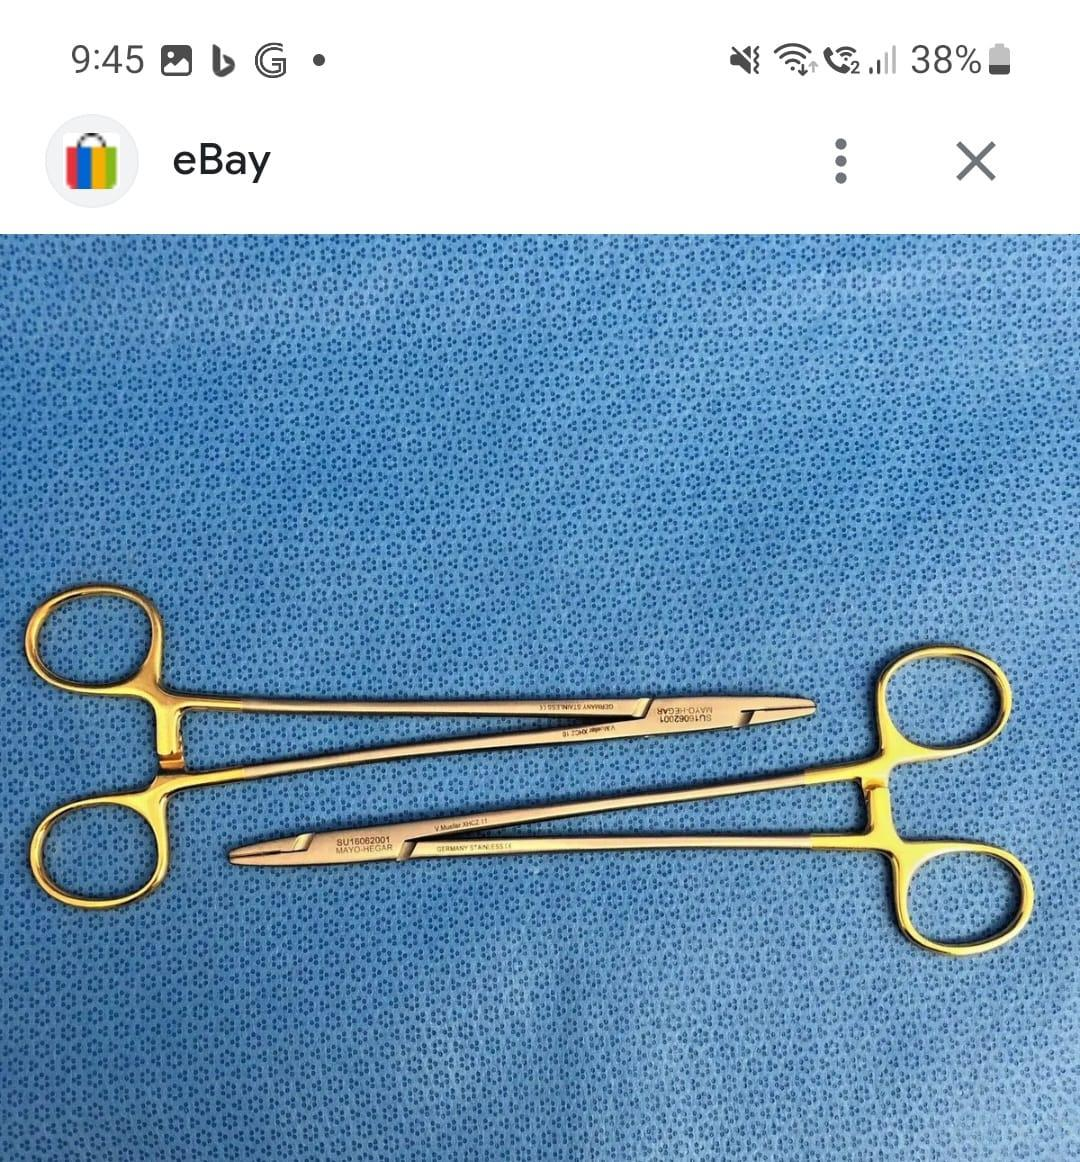Needle Holder: (215, 633, 1047, 962), (10, 578, 828, 906)
